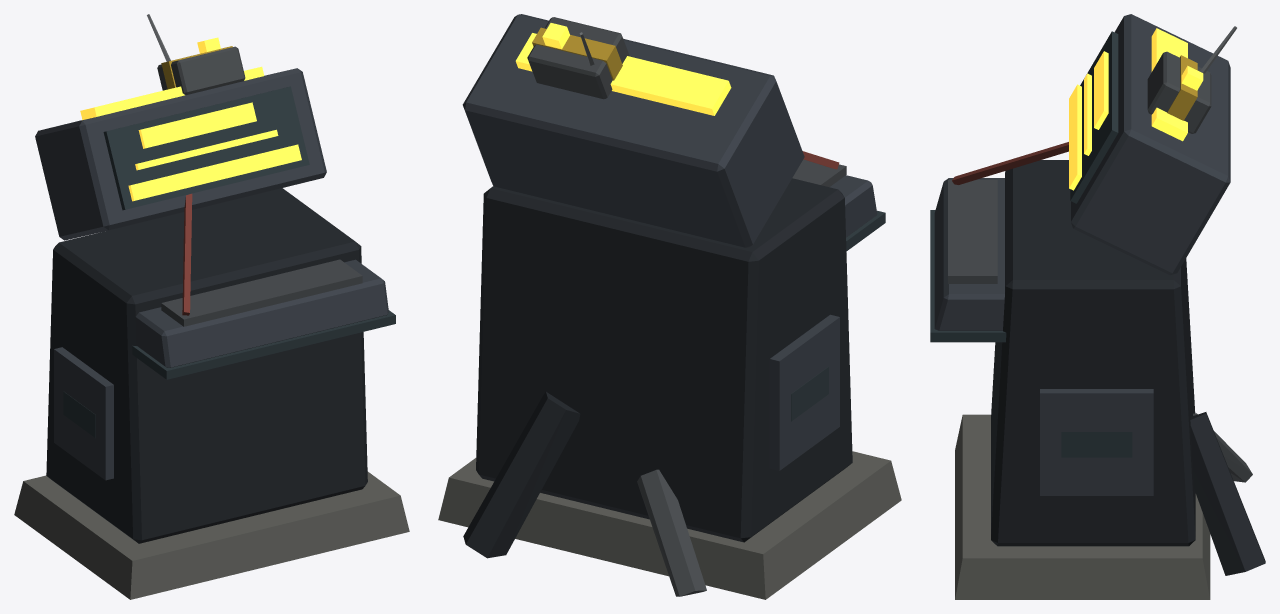
Rendered from device_terminal_hacked.glb.
3 views of the same model, side by side, from view 1: azimuth 30°, elevation 25°; view 2: azimuth 150°, elevation 25°; view 3: azimuth 270°, elevation 25° (orthographic). The views are drawn at different scales.
Visible parts, largest first — view 1: device_terminal_mesh; view 2: device_terminal_mesh; view 3: device_terminal_mesh.
Part boxes in pixels (box(x1,y1,x2,y2)): device_terminal_mesh: box(14, 14, 409, 599); device_terminal_mesh: box(438, 14, 901, 599); device_terminal_mesh: box(930, 14, 1265, 599).
Size of the model in its own units: 1 by 1.56 by 0.9468.
